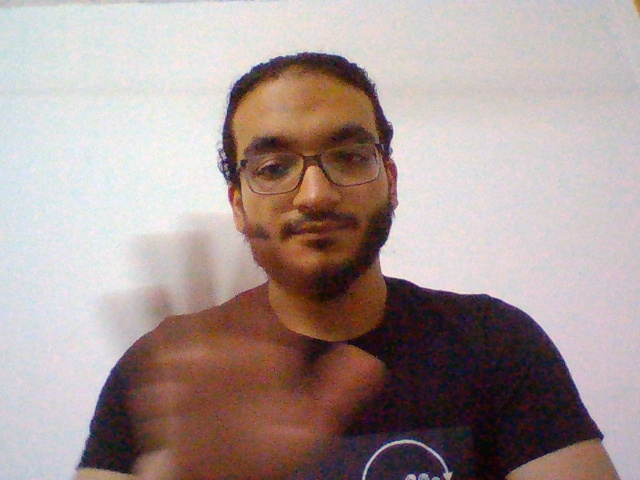Hello: (114, 206, 380, 476)
